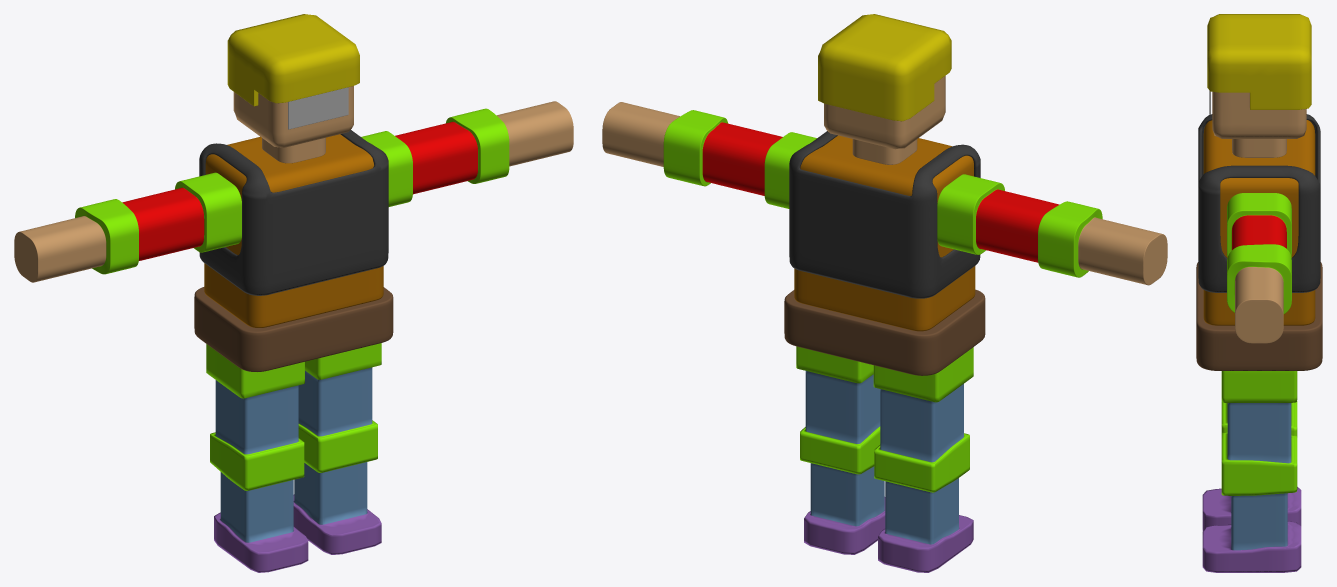
Rendered from guard_low (2).fbx.
3 views of the same model, side by side, from view 1: azimuth 30°, elevation 25°; view 2: azimuth 150°, elevation 25°; view 3: azimuth 270°, elevation 25° (orthographic).
Parts seen in each view (by area): view 1: armor_low, legright_low, legleft_low, armright_low, head_low, armleft_low, torso_low, waist_low, glass_low, neck_low; view 2: armor_low, legright_low, armright_low, legleft_low, head_low, armleft_low, torso_low, waist_low, neck_low; view 3: legleft_low, head_low, armleft_low, armor_low, torso_low, waist_low, legright_low, neck_low.
Boxes of the visible parts, x1=… form: armor_low: x1=199, y1=130, x2=388, y2=295; legright_low: x1=206, y1=344, x2=308, y2=572; legleft_low: x1=293, y1=343, x2=381, y2=554; armright_low: x1=14, y1=172, x2=241, y2=282; head_low: x1=227, y1=14, x2=359, y2=147; armleft_low: x1=361, y1=101, x2=573, y2=206; torso_low: x1=204, y1=134, x2=383, y2=327; waist_low: x1=194, y1=287, x2=393, y2=371; glass_low: x1=288, y1=87, x2=348, y2=129; neck_low: x1=262, y1=137, x2=325, y2=163; armor_low: x1=789, y1=131, x2=980, y2=298; legright_low: x1=873, y1=347, x2=973, y2=572; armright_low: x1=937, y1=174, x2=1167, y2=285; legleft_low: x1=796, y1=346, x2=885, y2=554; head_low: x1=818, y1=14, x2=951, y2=149; armleft_low: x1=602, y1=102, x2=816, y2=208; torso_low: x1=794, y1=135, x2=975, y2=331; waist_low: x1=784, y1=289, x2=985, y2=375; neck_low: x1=852, y1=139, x2=917, y2=164; legleft_low: x1=1202, y1=371, x2=1301, y2=572; head_low: x1=1207, y1=14, x2=1311, y2=138; armleft_low: x1=1227, y1=193, x2=1291, y2=343; armor_low: x1=1198, y1=114, x2=1320, y2=292; torso_low: x1=1203, y1=120, x2=1315, y2=325; waist_low: x1=1196, y1=262, x2=1322, y2=370; legright_low: x1=1202, y1=401, x2=1301, y2=530; neck_low: x1=1232, y1=139, x2=1286, y2=157.
Size of the model in its own units: 19.37 by 17.32 by 3.9.
